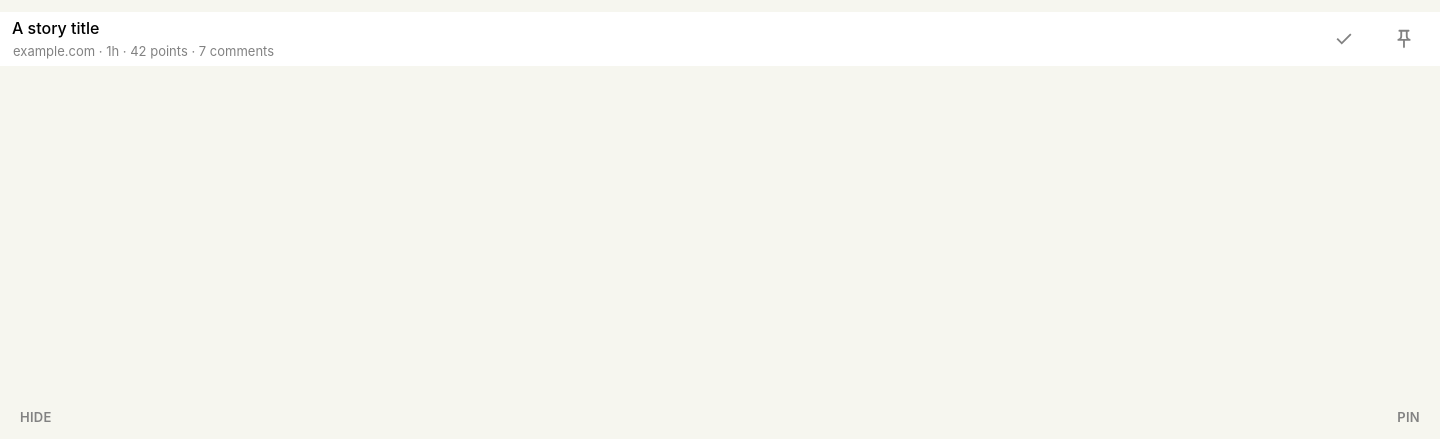
StoryListItem long-press menu › opens a menu with Pin / Hide / Share on long-press
Press the mouse on the element with test id "story-row" at (720, 39), box [0,12,1439,66]
Wait 600 ms
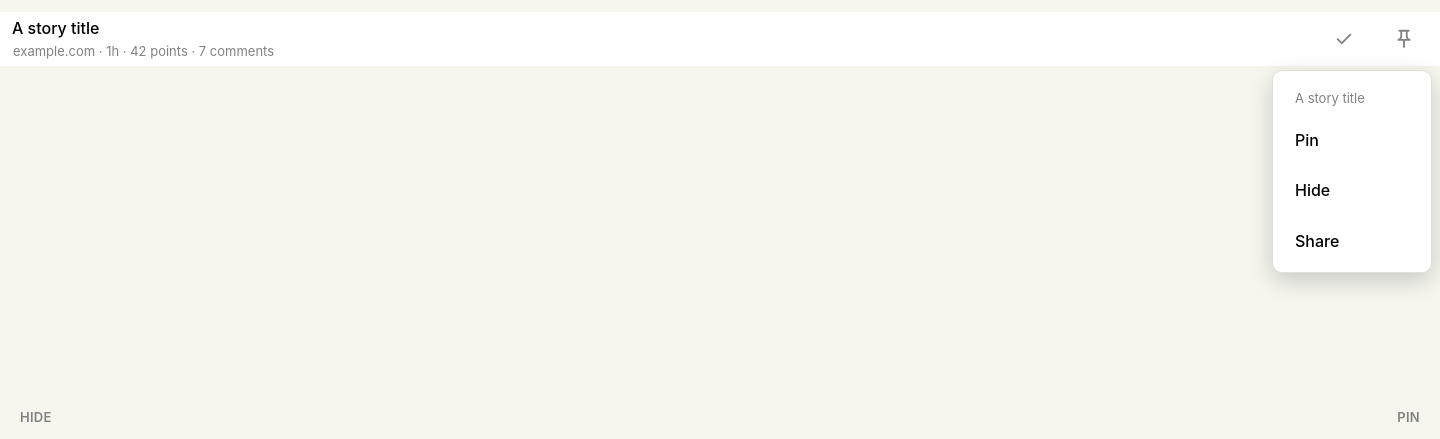
expect the element with test id "story-row-menu" is shown: met, box [1272,70,1432,273]
expect the menu item with test id "story-row-menu-pin" is shown: met, box [1279,115,1425,165]
expect the menu item with test id "story-row-menu-hide" is shown: met, box [1279,165,1425,216]
